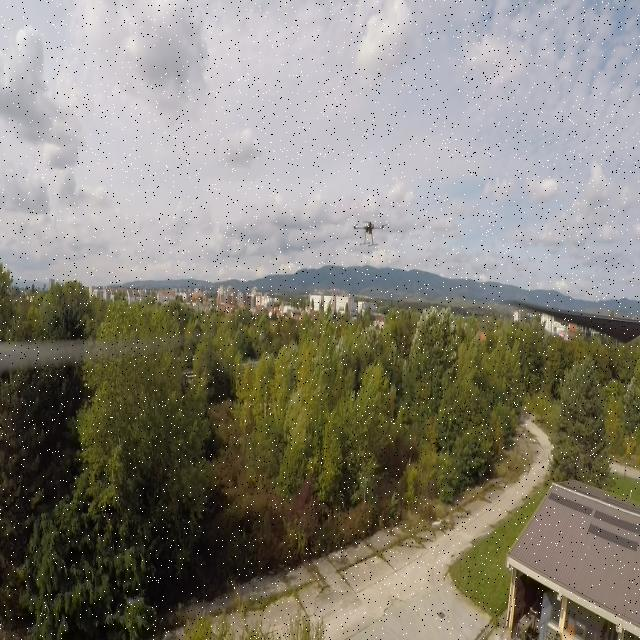UAV: (348, 215, 390, 248)
